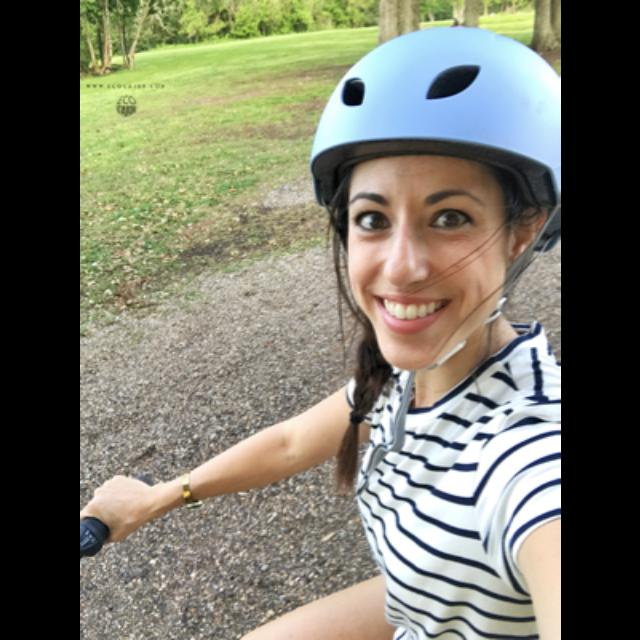With Helmet: (295, 29, 559, 371)
